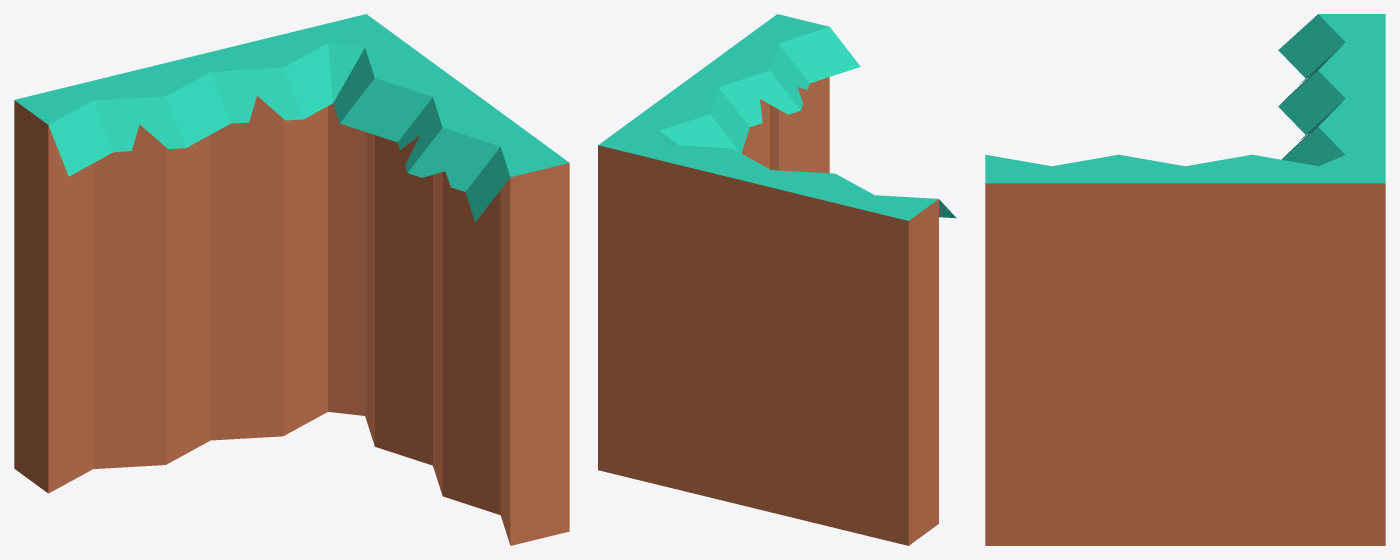
Rendered from cliff_cornerInnerTop_rock.fbx.
3 views of the same model, side by side, from view 1: azimuth 30°, elevation 25°; view 2: azimuth 150°, elevation 25°; view 3: azimuth 270°, elevation 25° (orthographic). The views are drawn at different scales.
Parts seen in each view (by area): view 1: cliff_cornerInnerTop_rock; view 2: cliff_cornerInnerTop_rock; view 3: cliff_cornerInnerTop_rock.
Part boxes in pixels (left/top/right/bottom): cliff_cornerInnerTop_rock: left=14, top=14, right=569, bottom=545; cliff_cornerInnerTop_rock: left=598, top=14, right=956, bottom=545; cliff_cornerInnerTop_rock: left=985, top=14, right=1385, bottom=545.
Bounding box in the file's own units: 10 × 10 × 10.
